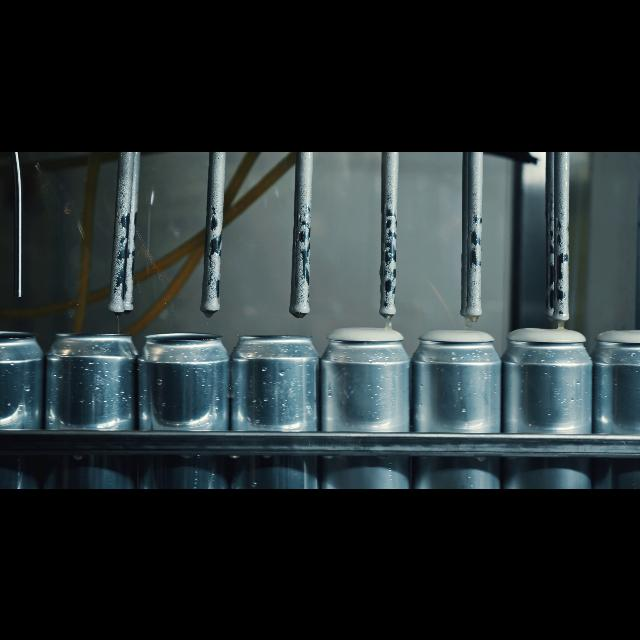empty: (50, 324, 136, 488), (142, 322, 225, 488), (232, 324, 314, 488), (1, 326, 44, 488)
full: (322, 314, 412, 488), (416, 318, 500, 488), (507, 318, 588, 488), (600, 316, 640, 488)
